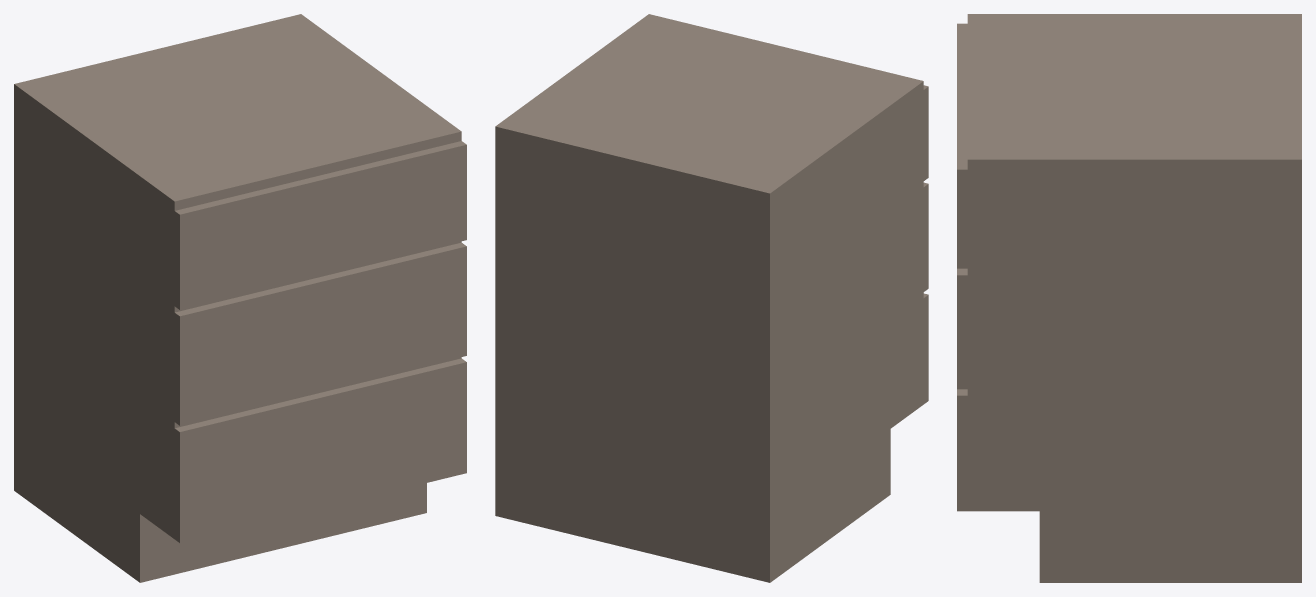
File: Universal-Design-Base-Cabinet-Three-Drawer-24-Deep_std_001_W24i.glb
3 renders of one model, left to right at view 1: azimuth 30°, elevation 25°; view 2: azimuth 150°, elevation 25°; view 3: azimuth 270°, elevation 25°, orthographic. The views are drawn at different scales.
Parts seen in each view (by area): view 1: Universal-Design-Base-Cabinet-Three-Drawer-24-Deep.std.001_W; view 2: Universal-Design-Base-Cabinet-Three-Drawer-24-Deep.std.001_W; view 3: Universal-Design-Base-Cabinet-Three-Drawer-24-Deep.std.001_W.
Boxes of the visible parts, <box> form: Universal-Design-Base-Cabinet-Three-Drawer-24-Deep.std.001_W: <box>14,14,466,582</box>; Universal-Design-Base-Cabinet-Three-Drawer-24-Deep.std.001_W: <box>495,14,928,582</box>; Universal-Design-Base-Cabinet-Three-Drawer-24-Deep.std.001_W: <box>957,14,1301,582</box>.
Bounding box in the file's own units: 0.6096 × 0.8255 × 0.6096.
